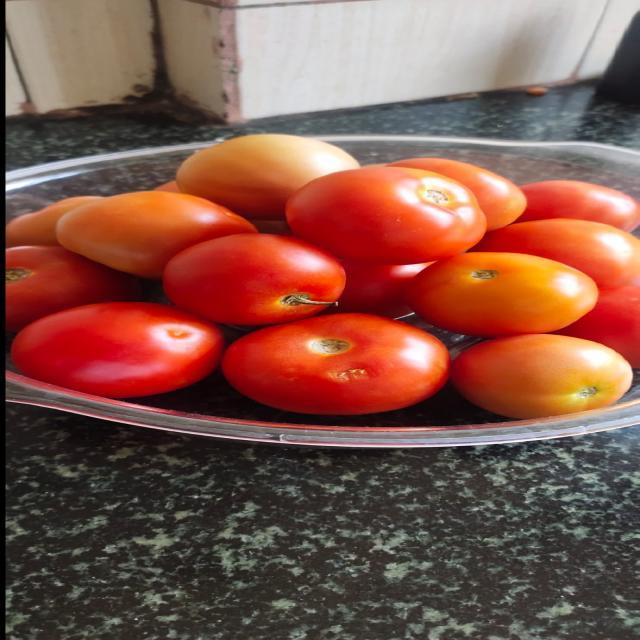Tomato: (221, 313, 449, 415), (9, 302, 223, 398), (284, 166, 486, 265), (53, 191, 256, 280), (161, 233, 345, 326), (405, 252, 599, 337), (174, 134, 359, 220), (450, 334, 632, 420), (469, 218, 640, 287), (3, 246, 139, 332), (516, 180, 640, 232)
